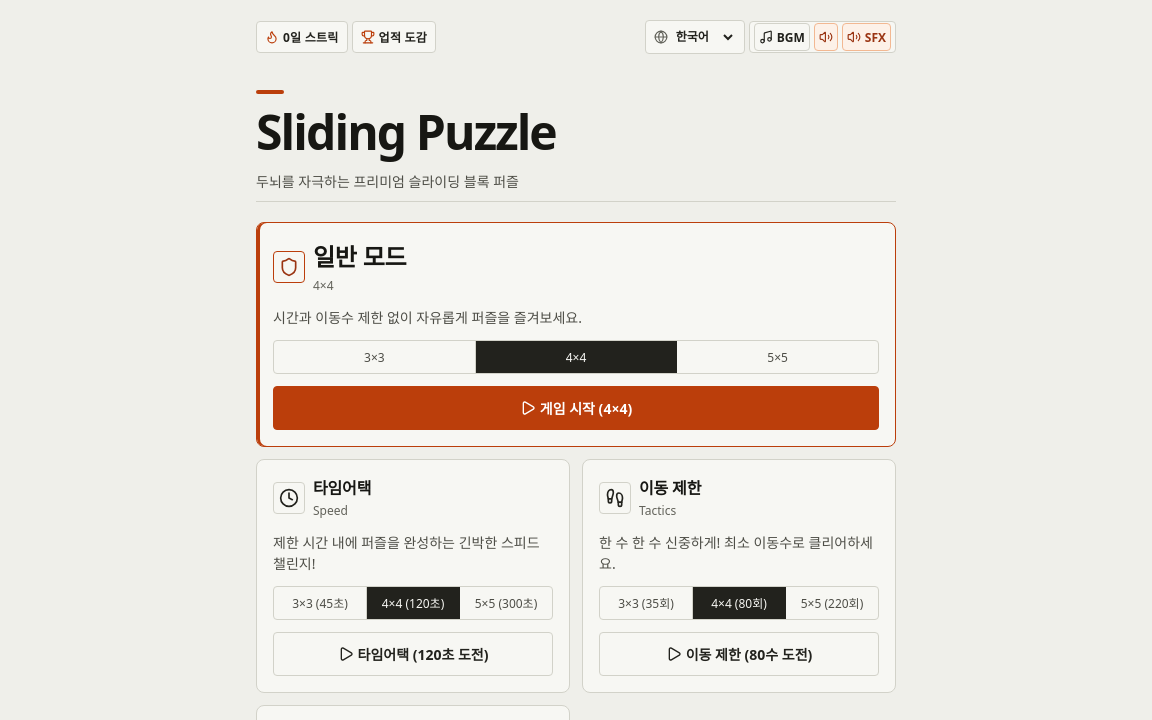
it: TASK-DEV-33 modal lifecycle › locks background scrolling while a modal is open and restores it on close
The width and height of the screenshot is (1152, 720).
Click the button "게임 시작 (4×4)". click: (576, 408)
box: [273, 386, 879, 430]
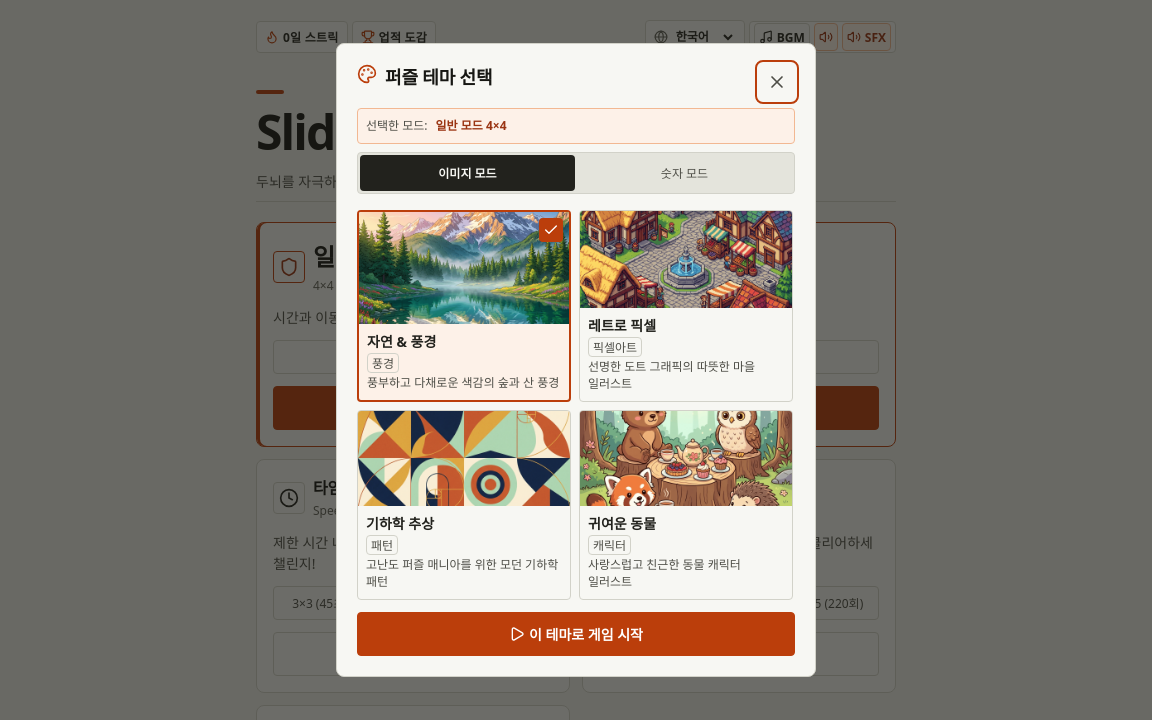
Expected: the dialog "퍼즐 테마 선택" is shown, [336, 43, 816, 677]
Click the button named "닫기". click: (777, 82)
box: [759, 64, 795, 100]
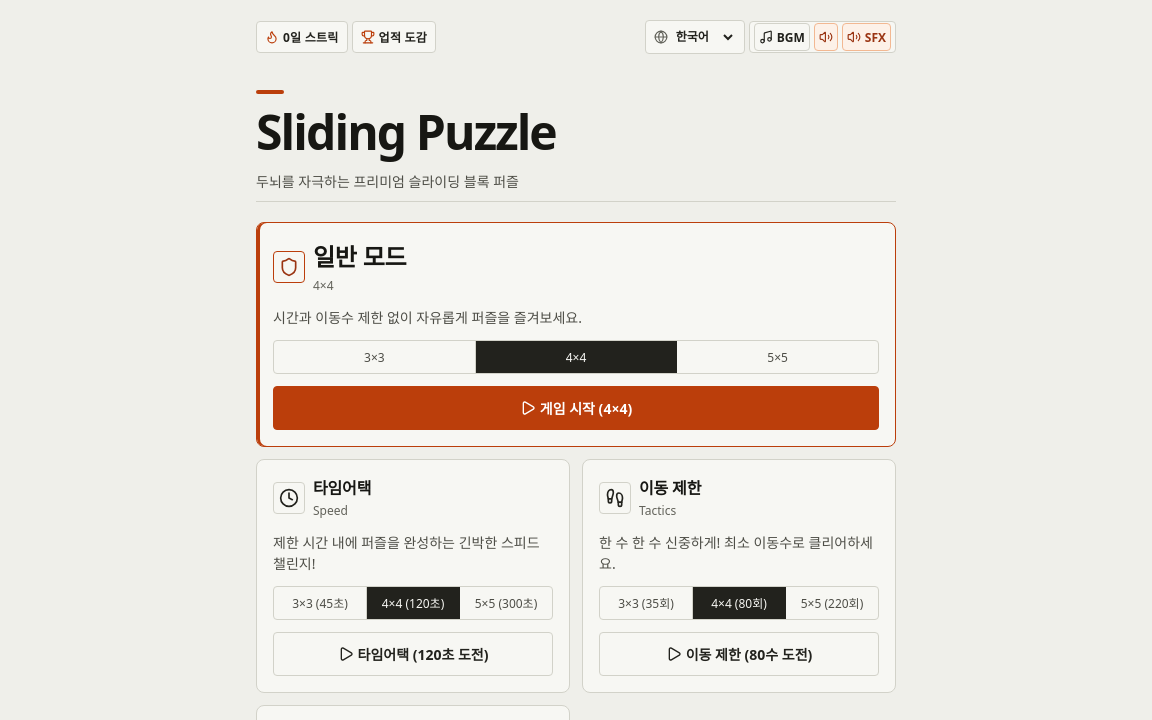
Expected: the dialog is gone
